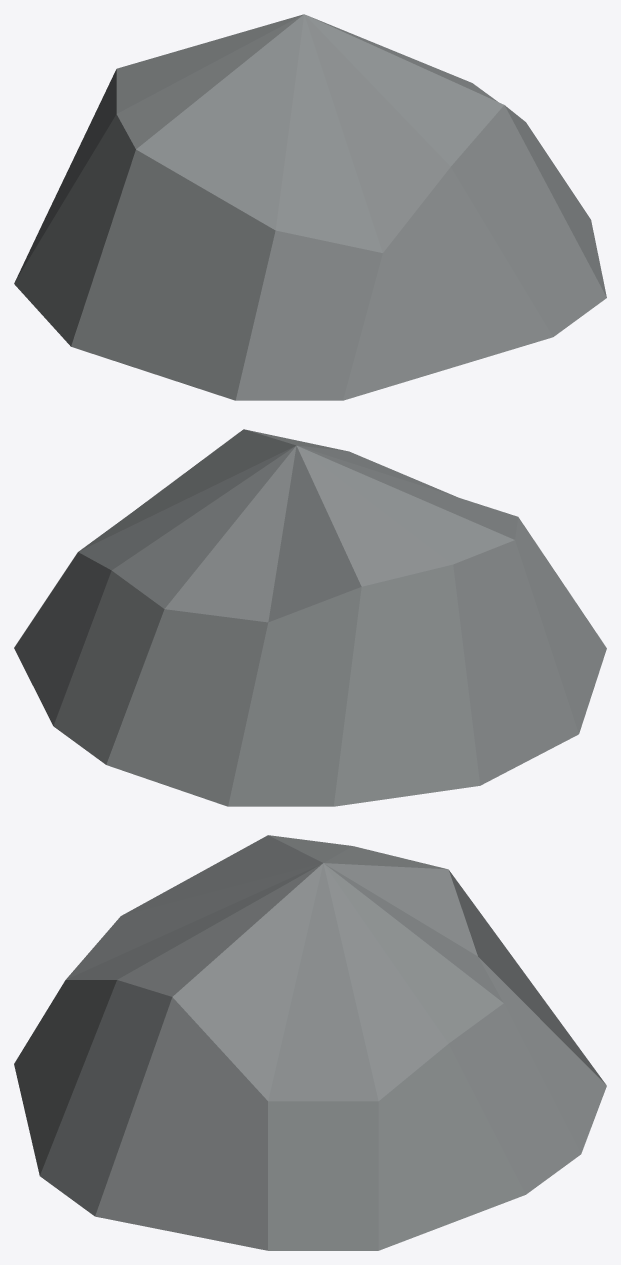
The picture shows the model from 3 angles, top to bottom: view 1: azimuth 30°, elevation 25°; view 2: azimuth 150°, elevation 25°; view 3: azimuth 270°, elevation 25°; orthographic projection. The views are drawn at different scales.
Parts seen in each view (by area): view 1: cylinder; view 2: cylinder; view 3: cylinder.
Part boxes in pixels (<box>): cylinder: <box>14,14,606,400</box>; cylinder: <box>14,429,606,806</box>; cylinder: <box>14,835,606,1250</box>.
Size of the model in its own units: 150 by 68.75 by 144.
Materials: 1 (1 with a texture image).
